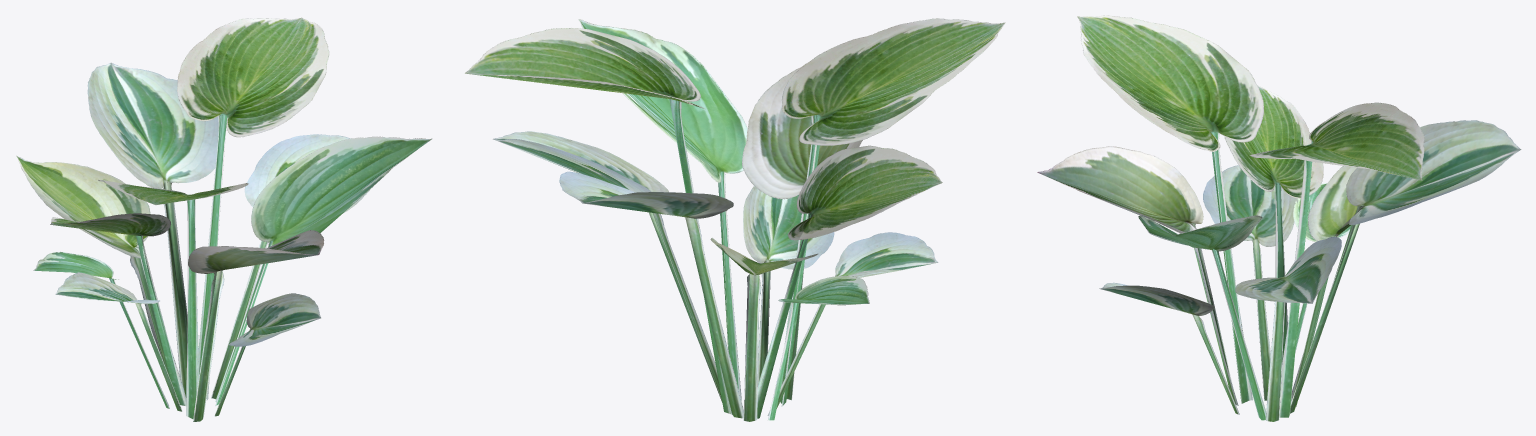
The model's file is plant_small_wg_00K_wild.fbx.
3 renders of one model, left to right at view 1: azimuth 30°, elevation 25°; view 2: azimuth 150°, elevation 25°; view 3: azimuth 270°, elevation 25°, orthographic. The views are drawn at different scales.
Parts seen in each view (by area): view 1: plant_small_wg_00K_wild; view 2: plant_small_wg_00K_wild; view 3: plant_small_wg_00K_wild.
Part boxes in pixels (x1=…): plant_small_wg_00K_wild: x1=16, y1=17, x2=432, y2=421; plant_small_wg_00K_wild: x1=465, y1=18, x2=1005, y2=421; plant_small_wg_00K_wild: x1=1037, y1=15, x2=1521, y2=421.
Size of the model in its own units: 49.12 by 40.65 by 52.85.
